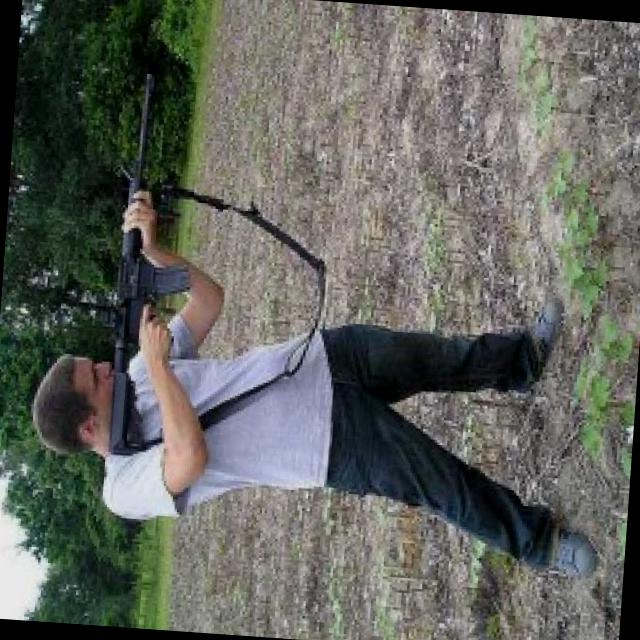long weapon: (85, 62, 206, 472)
